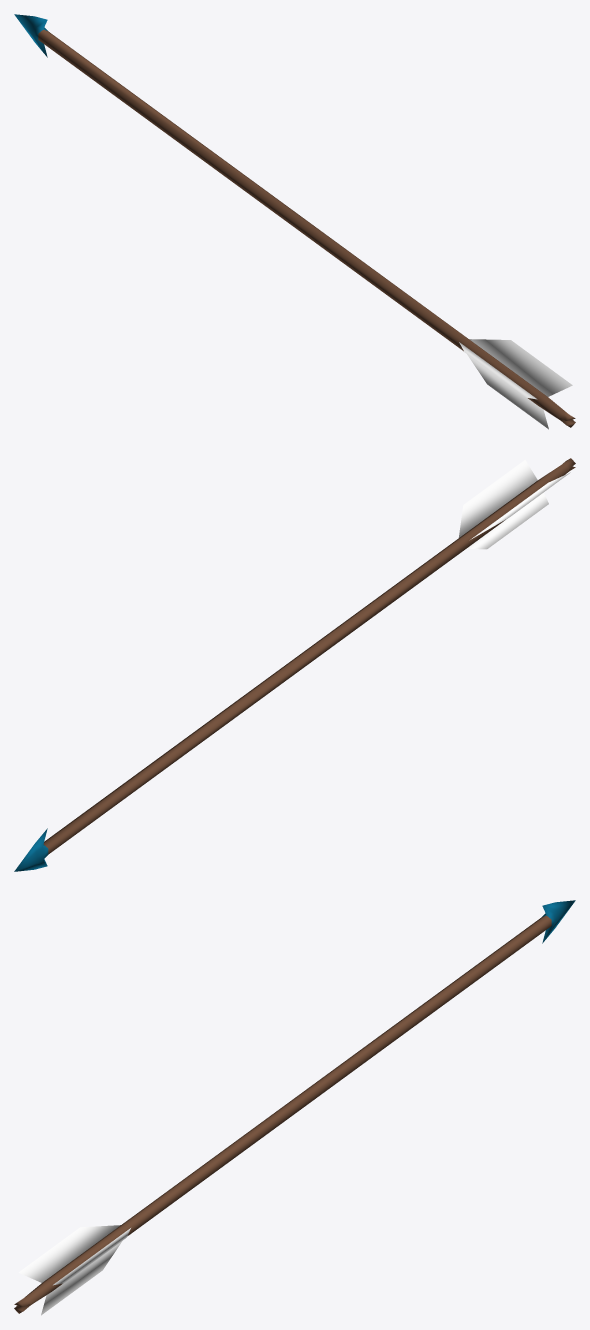
The model's file is arrow.fbx.
3 views of the same model, one above another, from view 1: azimuth 30°, elevation 25°; view 2: azimuth 150°, elevation 25°; view 3: azimuth 330°, elevation 25° (orthographic).
Visible parts, largest first — view 1: Arrow; view 2: Arrow; view 3: Arrow.
Boxes of the visible parts, x1=… form: Arrow: x1=14, y1=14, x2=575, y2=429; Arrow: x1=14, y1=458, x2=575, y2=871; Arrow: x1=14, y1=900, x2=575, y2=1315.
Bounding box in the file's own units: 3.86 × 80.08 × 3.41.
